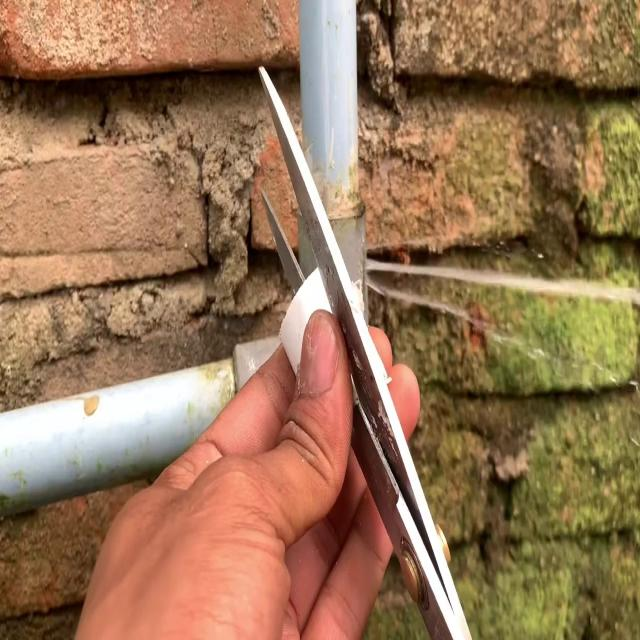leak: (364, 255, 640, 303)
